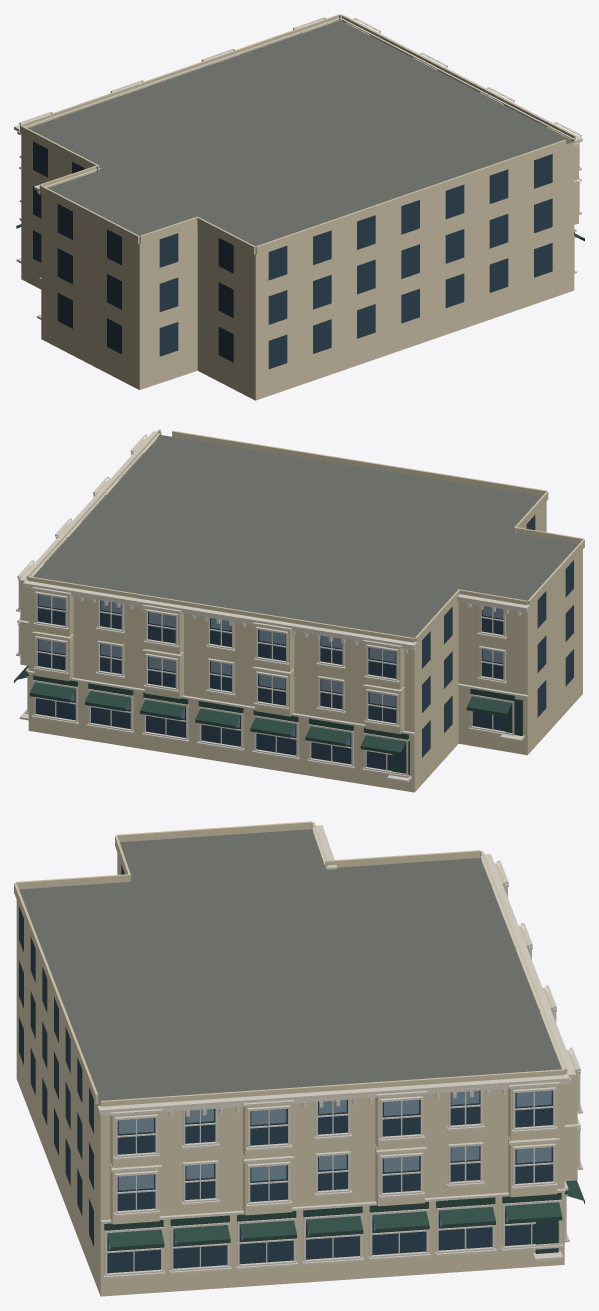
3 renders of one model, top to bottom at view 1: azimuth 30°, elevation 25°; view 2: azimuth 150°, elevation 25°; view 3: azimuth 270°, elevation 25°, orthographic. The views are drawn at different scales.
Parts seen in each view (by area): view 1: Footprint 0 / surface 1, Footprint 0 / surface 2, Inset glazing, Facade bay volumes, Cornices and window frames; view 2: Footprint 0 / surface 1, Footprint 0 / surface 2, Cornices and window frames, Inset glazing, Facade bay volumes, Storefronts and doors, Sky reflection panels; view 3: Footprint 0 / surface 1, Footprint 0 / surface 2, Cornices and window frames, Inset glazing, Facade bay volumes, Storefronts and doors, Sky reflection panels.
Boxes of the visible parts, x1,y1,x2,y2 form: Footprint 0 / surface 1: (28, 20, 573, 246); Footprint 0 / surface 2: (21, 134, 574, 400); Inset glazing: (33, 141, 552, 369); Facade bay volumes: (20, 14, 578, 254); Cornices and window frames: (14, 15, 582, 319); Footprint 0 / surface 1: (33, 435, 578, 637); Footprint 0 / surface 2: (28, 501, 582, 792); Cornices and window frames: (16, 431, 529, 782); Inset glazing: (35, 515, 573, 770); Facade bay volumes: (20, 429, 584, 734); Storefronts and doors: (14, 665, 522, 776); Sky reflection panels: (38, 594, 503, 745); Footprint 0 / surface 1: (19, 829, 561, 1105); Footprint 0 / surface 2: (16, 853, 564, 1296); Cornices and window frames: (97, 825, 582, 1278); Inset glazing: (19, 864, 553, 1273); Facade bay volumes: (14, 821, 577, 1224); Storefronts and doors: (104, 1180, 584, 1253); Sky reflection panels: (109, 1090, 551, 1249).
Size of the model in its own units: 32.4 by 10.22 by 27.02.
